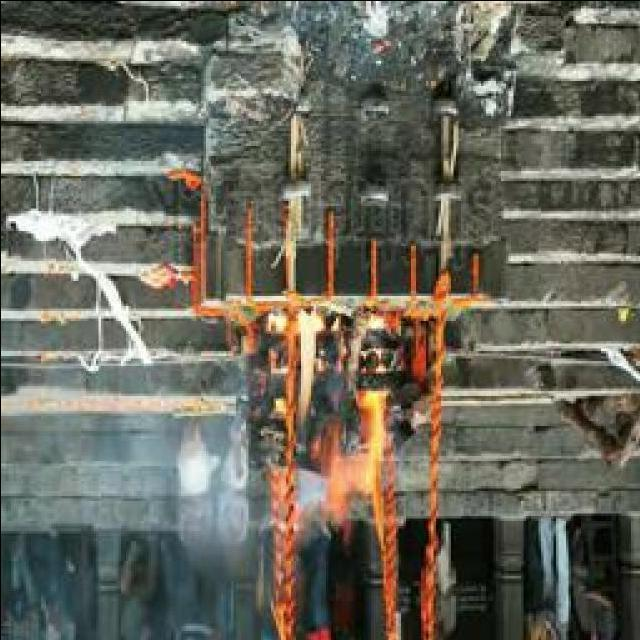Fire: (284, 302, 390, 548)
